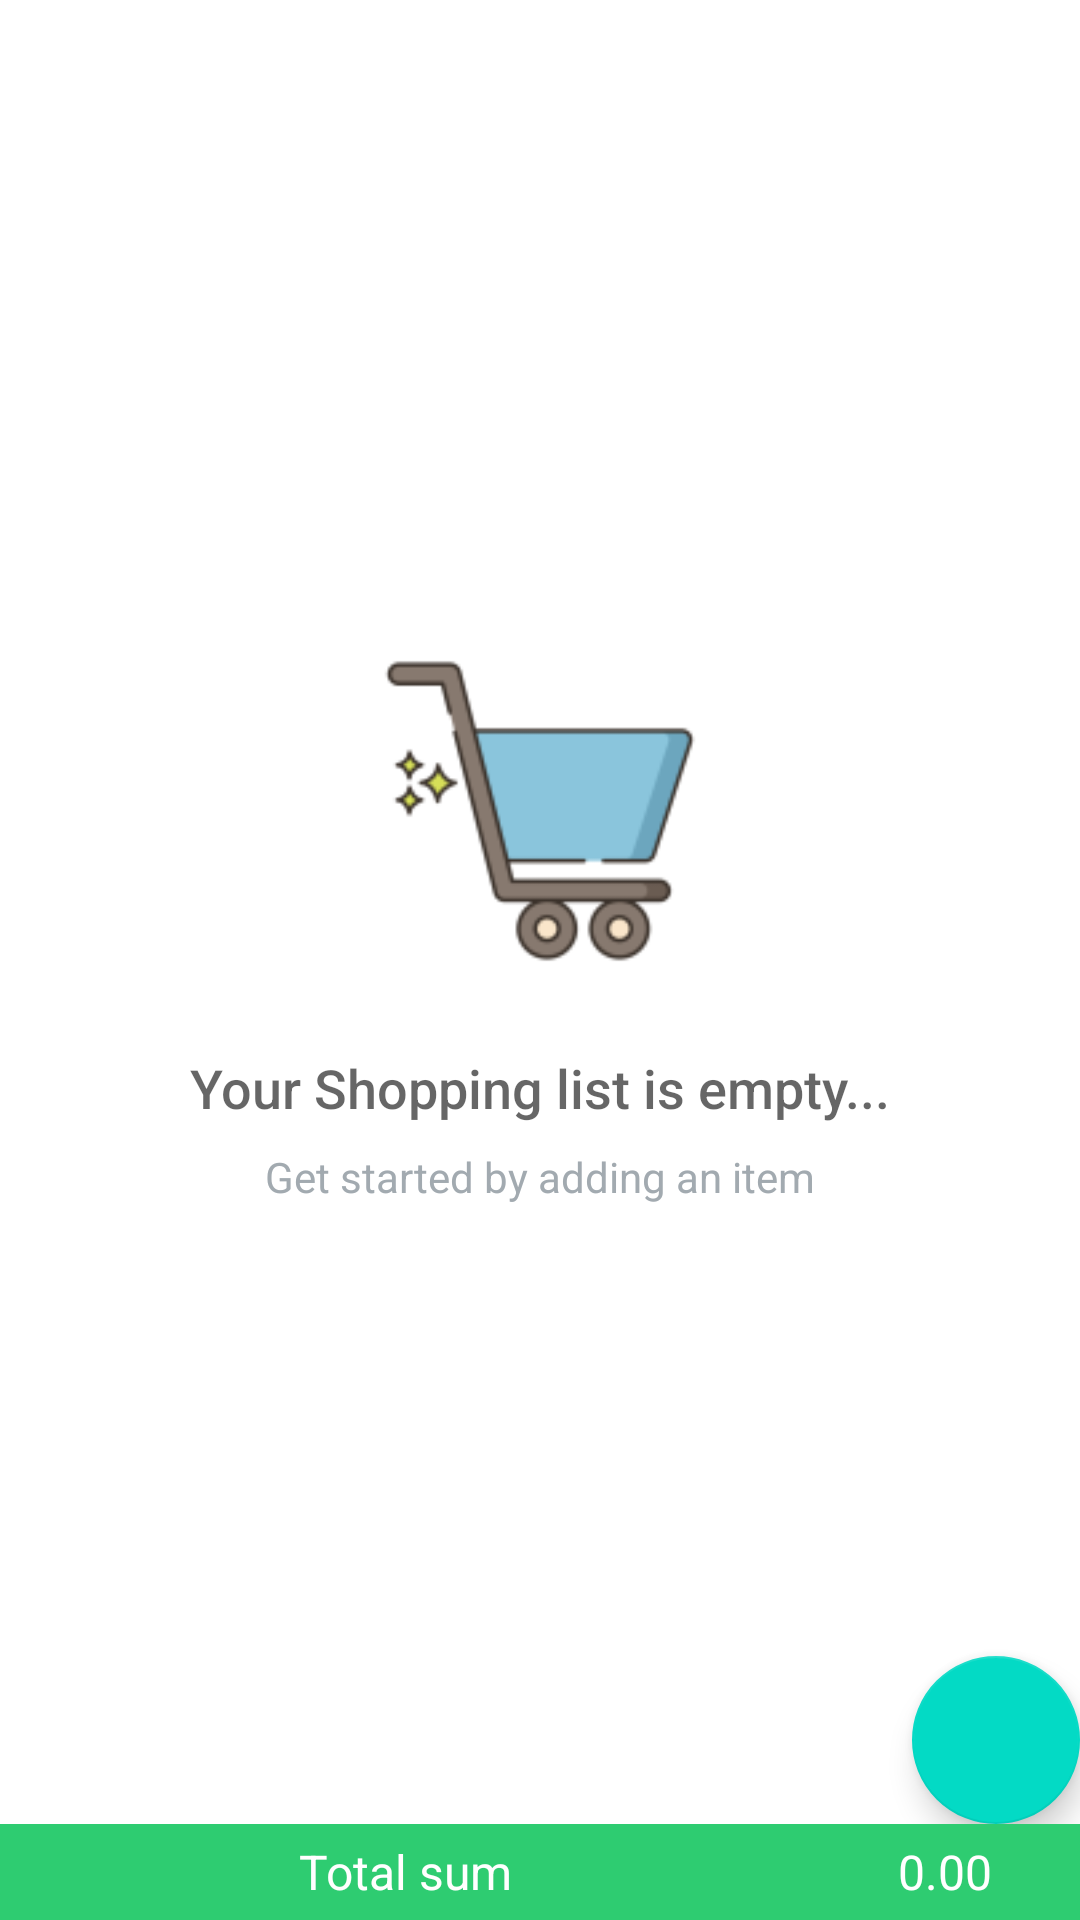

Screen size 1080×1920. Icon name, then its box in pixels as (x1, y1, x2, y2):
empty cart: (386, 661, 694, 961)
